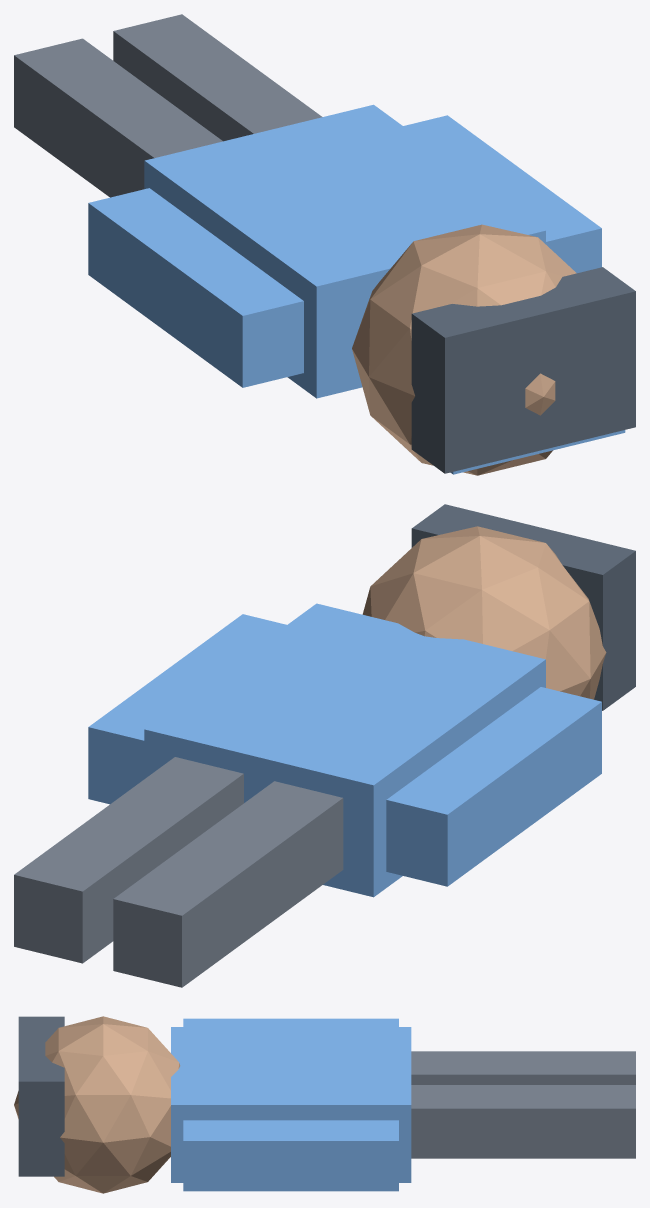
The model's file is ops.glb.
The picture shows the model from 3 angles, top to bottom: view 1: azimuth 30°, elevation 25°; view 2: azimuth 150°, elevation 25°; view 3: azimuth 270°, elevation 25°; orthographic projection. The views are drawn at different scales.
Visible parts, largest first — view 1: torso, hair, arm_l, head, leg_l, leg_r, arm_r; view 2: torso, leg_l, arm_l, head, leg_r, hair, arm_r; view 3: torso, head, leg_r, arm_r, leg_l, hair, arm_l.
Part boxes in pixels (left/top/right/bottom): torso: left=144, top=104, right=545, bottom=398; hair: left=411, top=267, right=635, bottom=473; arm_l: left=88, top=188, right=303, bottom=387; head: left=352, top=224, right=576, bottom=475; leg_l: left=14, top=38, right=222, bottom=197; leg_r: left=113, top=14, right=322, bottom=141; arm_r: left=403, top=115, right=601, bottom=273; torso: left=144, top=603, right=545, bottom=897; leg_l: left=113, top=781, right=343, bottom=987; arm_l: left=386, top=687, right=601, bottom=886; head: left=362, top=526, right=606, bottom=699; leg_r: left=14, top=757, right=243, bottom=963; hair: left=411, top=504, right=635, bottom=710; arm_r: left=88, top=614, right=286, bottom=804; torso: left=171, top=1027, right=411, bottom=1182; head: left=14, top=1016, right=180, bottom=1193; leg_r: left=411, top=1085, right=635, bottom=1158; arm_r: left=183, top=1120, right=398, bottom=1191; leg_l: left=411, top=1051, right=635, bottom=1084; hair: left=18, top=1016, right=64, bottom=1176; arm_l: left=183, top=1018, right=398, bottom=1026.
Bounding box in the file's own units: 0.94 × 0.58 × 2.02.
